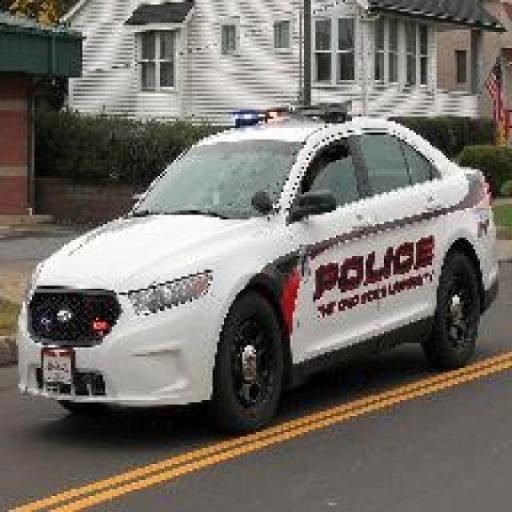Ambulance: (28, 103, 492, 430)
